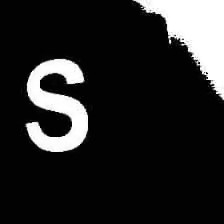LTR_S: (22, 55, 92, 154)
